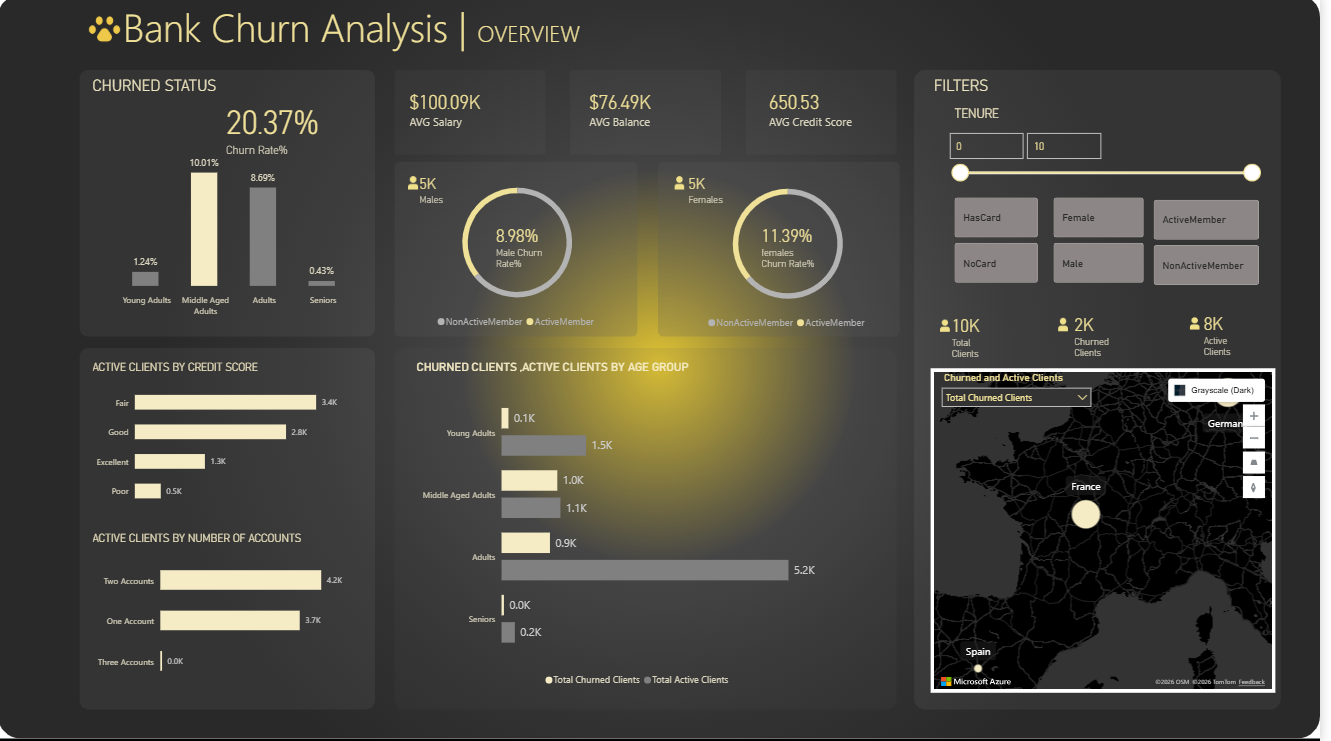

The dashboard page shown, as its layout file describes it:
{"tool":"powerbi","page":{"name":"Overview","canvas":[1280,720],"ordinal":0},"visuals":[{"type":"cardVisual","fields":{"Data":["Calculations.Clients","Calculations.Churn Rate","Calculations.Female Clients","Calculations.Male Clients"]},"box":[338.4,67.2,922.8,111.6],"z":0},{"type":"textbox","box":[322.4,35.3,437.5,62.7],"z":1000},{"type":"clusteredBarChart","title":"Top 3 Countries","fields":{"Category":["DimGeography.Geography"],"Y":["Calculations.Clients"]},"box":[370.3,235.8,400,190],"z":2000},{"type":"clusteredBarChart","title":"Top 3 Countries","fields":{"Category":["DimAgeCategory.Age_Category"],"Y":["Calculations.M"]},"box":[791.8,445.4,399.9,190.3],"z":3000},{"type":"clusteredBarChart","title":"Top 3 Countries","fields":{"Category":["DimCreditScores.CreditScore_Range"],"Y":["Calculations.Clients"]},"box":[370.3,445.4,401,190.3],"z":6000},{"type":"clusteredBarChart","title":"Top 3 Countries","fields":{"Category":["DimNumOfProducts.Count_Accounts"],"Y":["Calculations.Clients"]},"box":[791.8,235.8,399.9,190.3],"z":8000},{"type":"image","box":[458.1,97.4,60,60],"z":10000},{"type":"image","box":[936.9,99,55.3,59.1],"z":11000},{"type":"image","box":[1164.3,97.7,52.7,59.1],"z":12000},{"type":"image","box":[696,97.4,61.5,60],"z":13000},{"type":"image","box":[356.6,22.8,59.2,62.7],"z":14000},{"type":"advancedSlicerVisual","fields":{"Values":["DimMember.Member"]},"box":[38.8,308.9,150,102],"z":14001},{"type":"advancedSlicerVisual","fields":{"Values":["DimGender.Gender"]},"box":[38.8,180,150,102],"z":14002},{"type":"advancedSlicerVisual","fields":{"Values":["DimCrCard.CreditCard"]},"box":[38.8,567.3,150,102],"z":14003},{"type":"advancedSlicerVisual","fields":{"Values":["DimChurnStatus.Status"]},"box":[38.6,437.9,150.4,102.5],"z":14004},{"type":"pageNavigator","box":[38.6,83.5,151.6,69.4],"z":14005}]}

Visuals, with their boxes in screenshot pixels (x1, y1, x2, y2), scaled from the page's 1280x720 canvas onto the 1331x741 screenshot:
cardVisual - Calculations.Clients x Calculations.Churn Rate: left=352, top=69, right=1311, bottom=184
textbox: left=335, top=36, right=790, bottom=101
"Top 3 Countries" clusteredBarChart: left=385, top=243, right=801, bottom=438
"Top 3 Countries" clusteredBarChart: left=823, top=458, right=1239, bottom=654
"Top 3 Countries" clusteredBarChart: left=385, top=458, right=802, bottom=654
"Top 3 Countries" clusteredBarChart: left=823, top=243, right=1239, bottom=439
image: left=476, top=100, right=539, bottom=162
image: left=974, top=102, right=1032, bottom=163
image: left=1211, top=101, right=1265, bottom=161
image: left=724, top=100, right=788, bottom=162
image: left=371, top=23, right=432, bottom=88
advancedSlicerVisual - DimMember.Member: left=40, top=318, right=196, bottom=423
advancedSlicerVisual - DimGender.Gender: left=40, top=185, right=196, bottom=290
advancedSlicerVisual - DimCrCard.CreditCard: left=40, top=584, right=196, bottom=689
advancedSlicerVisual - DimChurnStatus.Status: left=40, top=451, right=197, bottom=556
pageNavigator: left=40, top=86, right=198, bottom=157
